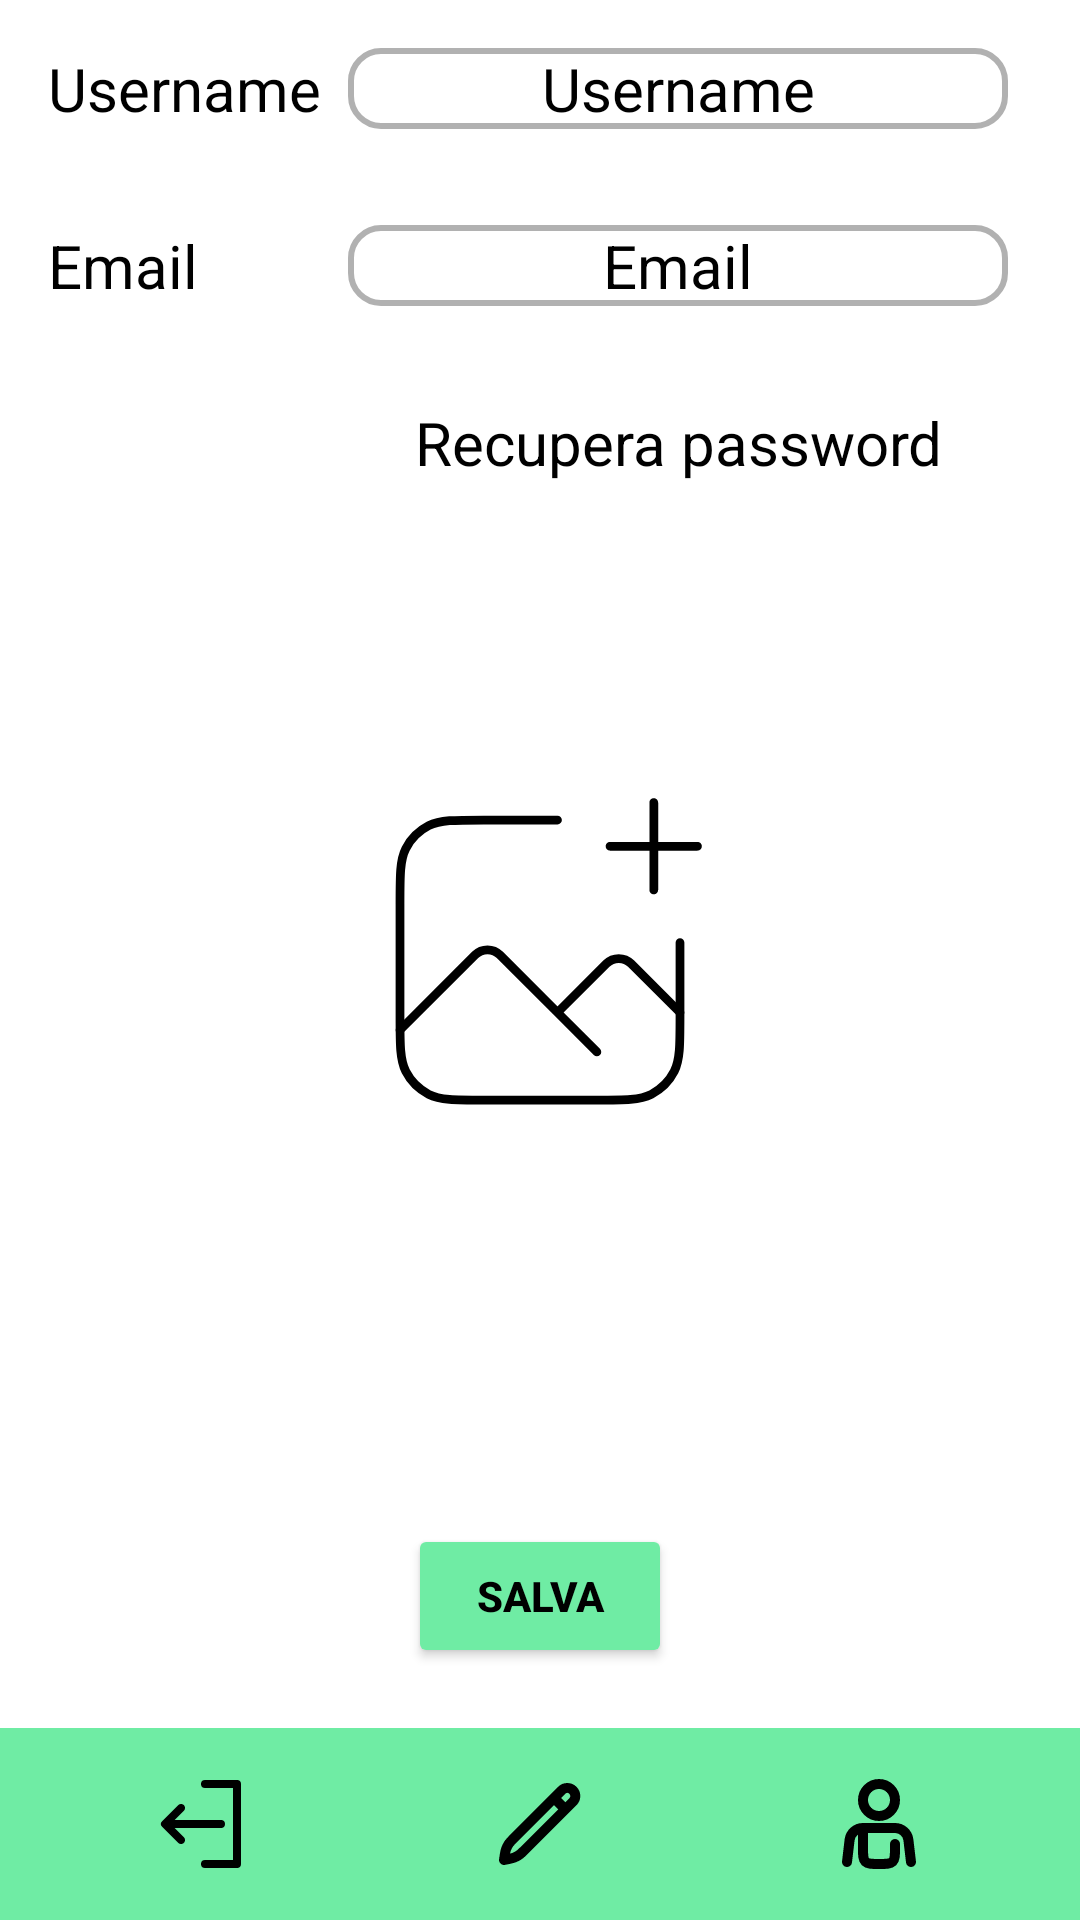

Named icons in this screenshot (1080px x 1920px) and their centers, (x=x, y=y):
profile image: (x=548, y=951)
